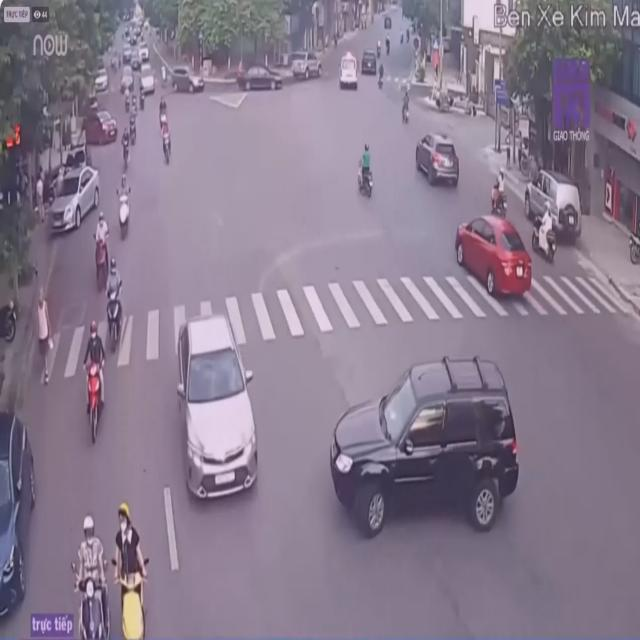car: (328, 351, 522, 536), (180, 309, 262, 504), (0, 412, 38, 635), (453, 213, 534, 302), (526, 170, 582, 235), (52, 168, 98, 231), (415, 132, 462, 188)
motorbike: (95, 502, 152, 638), (69, 508, 121, 638), (79, 320, 108, 448), (106, 258, 122, 347), (531, 206, 556, 262), (354, 143, 375, 203), (94, 213, 109, 288), (115, 174, 132, 235), (490, 175, 509, 221)
